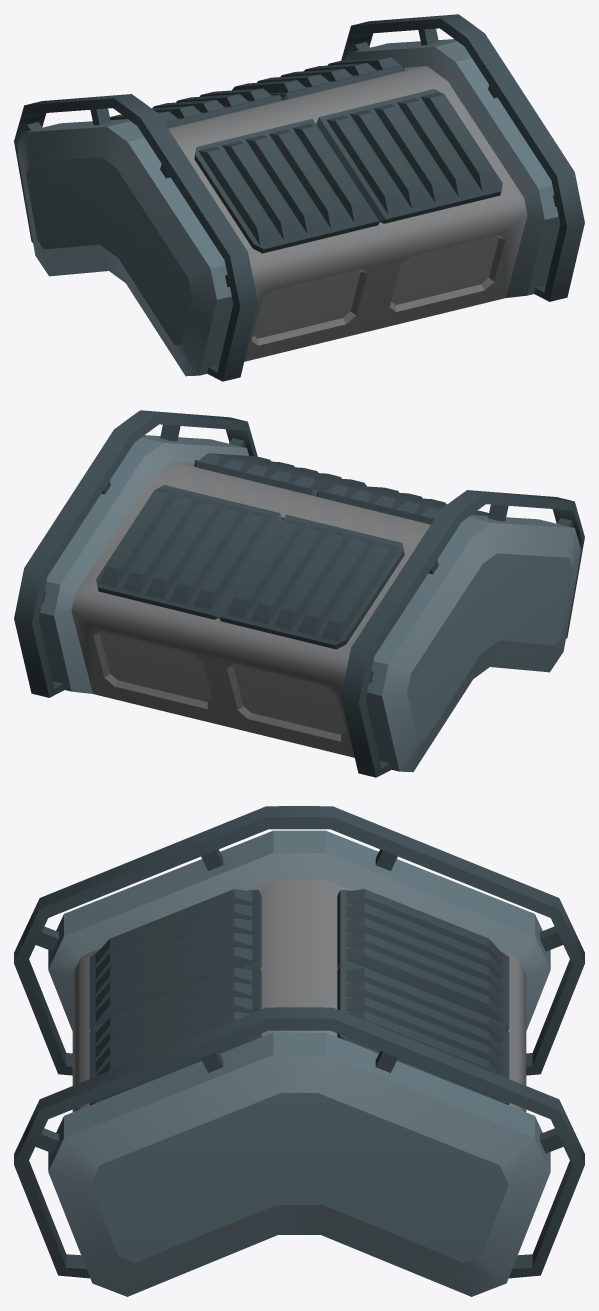
File: Garbage_Container_01.glb
The picture shows the model from 3 angles, top to bottom: view 1: azimuth 30°, elevation 25°; view 2: azimuth 150°, elevation 25°; view 3: azimuth 270°, elevation 25°; orthographic projection. The views are drawn at different scales.
Visible parts, largest first — view 1: Garbage_Container_01, Container_Cap2_01, Container_Cap1_01, Container_Cap4_01, Container_Cap3_01; view 2: Garbage_Container_01, Container_Cap4_01, Container_Cap3_01, Container_Cap2_01, Container_Cap1_01; view 3: Garbage_Container_01, Container_Cap1_01, Container_Cap3_01, Container_Cap2_01, Container_Cap4_01.
Boxes of the visible parts, bbox=[...] form: Garbage_Container_01: bbox=[14, 14, 584, 381]; Container_Cap2_01: bbox=[316, 89, 502, 223]; Container_Cap1_01: bbox=[194, 118, 379, 253]; Container_Cap4_01: bbox=[232, 57, 404, 100]; Container_Cap3_01: bbox=[110, 88, 282, 128]; Garbage_Container_01: bbox=[14, 410, 584, 777]; Container_Cap4_01: bbox=[96, 485, 282, 619]; Container_Cap3_01: bbox=[219, 514, 404, 649]; Container_Cap2_01: bbox=[194, 453, 366, 496]; Container_Cap1_01: bbox=[316, 484, 488, 524]; Garbage_Container_01: bbox=[14, 806, 584, 1296]; Container_Cap1_01: bbox=[89, 889, 261, 1031]; Container_Cap3_01: bbox=[337, 889, 509, 1031]; Container_Cap2_01: bbox=[89, 965, 261, 1104]; Container_Cap4_01: bbox=[337, 965, 509, 1104].
Size of the model in its own units: 1.89 by 1.03 by 1.95.
1 material, 1 textured.
